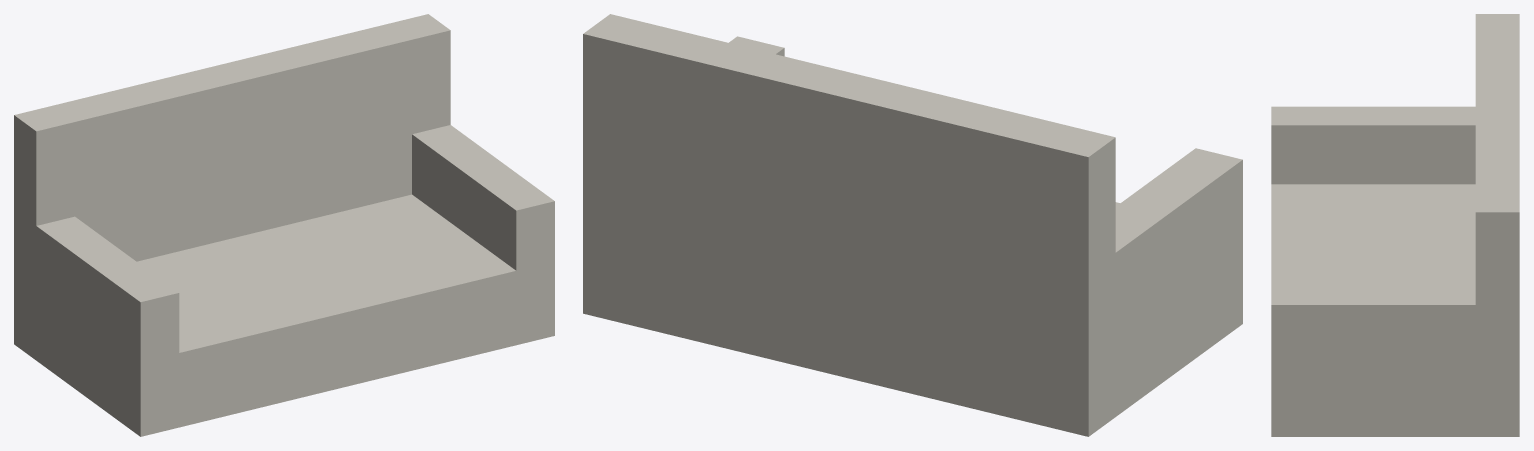
The model's file is white_sofa.fbx.
3 renders of one model, left to right at view 1: azimuth 30°, elevation 25°; view 2: azimuth 150°, elevation 25°; view 3: azimuth 270°, elevation 25°, orthographic. The views are drawn at different scales.
Parts seen in each view (by area): view 1: Cube; view 2: Cube; view 3: Cube.
Boxes of the visible parts, left/top/right/bottom form: Cube: left=14, top=14, right=554, bottom=436; Cube: left=583, top=14, right=1242, bottom=436; Cube: left=1271, top=14, right=1519, bottom=436.
Size of the model in its own units: 756 by 400 by 400.
